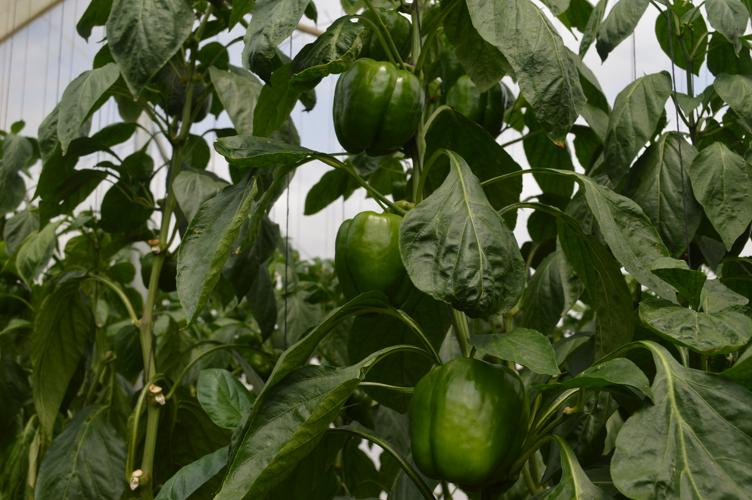BellPepper: (410, 355, 526, 494), (328, 213, 413, 308), (330, 61, 419, 147), (448, 76, 511, 140), (172, 79, 212, 125)
